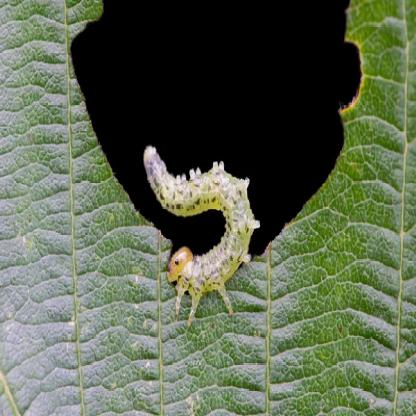sawfly: (135, 143, 267, 318)
